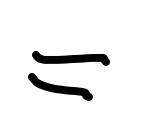eqv: (28, 51, 110, 101)
